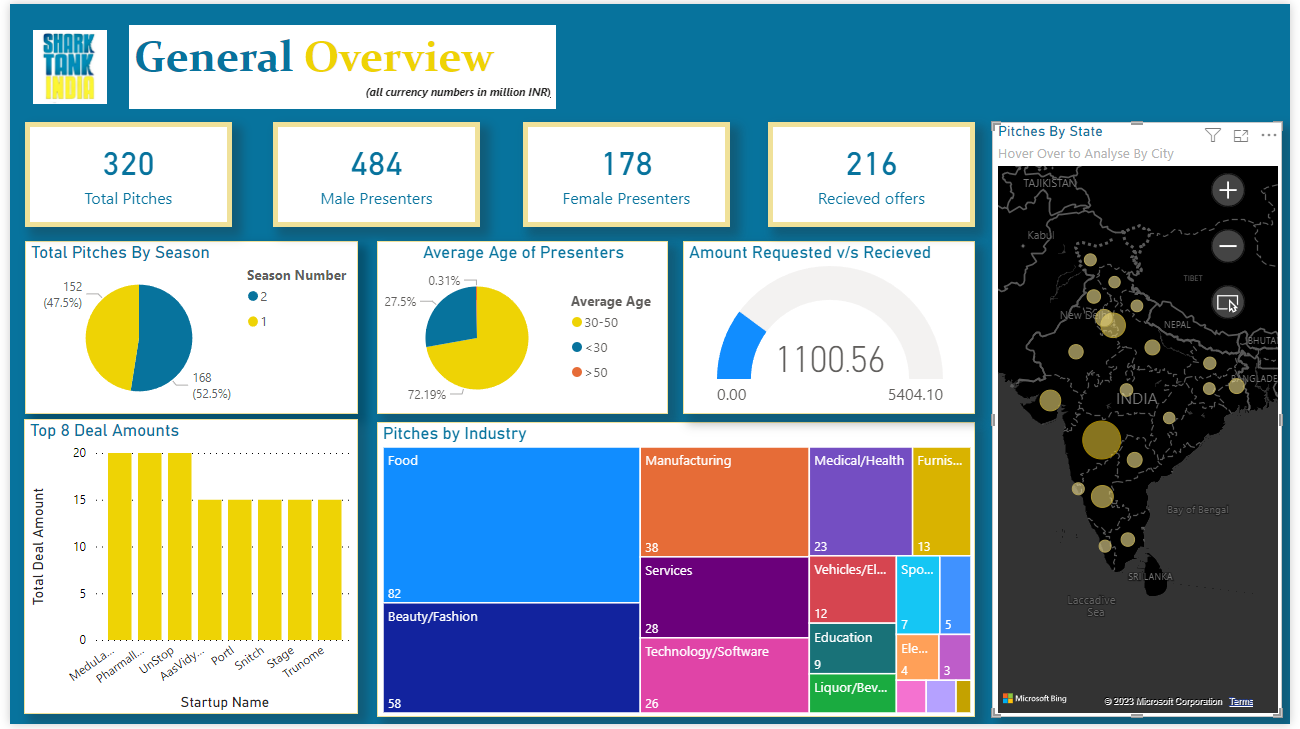

The dashboard page shown, as its layout file describes it:
{"tool":"powerbi","page":{"name":"General Overview","canvas":[1280,720],"ordinal":0},"visuals":[{"type":"map","title":"Pitches By State","fields":{"Category":["Report 1.Pitchers State"],"Size":["CountNonNull(Report 1.Pitch Number)"]},"box":[982.4,117.7,289.8,595.3],"z":0},{"type":"pieChart","title":"Total Pitches By Season","fields":{"Category":["Report 1.Season Number"],"Y":["CountNonNull(Report 1.Pitch Number)"]},"box":[14.6,237.3,333.6,173.1],"z":1000},{"type":"columnChart","title":"Top 8 Deal Amounts","fields":{"Y":["Sum(Report 1.Total Deal Amount)"],"Category":["Report 1.Startup Name"]},"box":[14.2,415.4,333.9,294.9],"z":2000},{"type":"advanceCardE03760C5AB684758B56AA29F9E6C257B","fields":{"mainMeasure":["Sum(Report 1.Male Presenters)"]},"box":[262.6,117.7,207.2,105],"z":3000},{"type":"advanceCardE03760C5AB684758B56AA29F9E6C257B","fields":{"mainMeasure":["Sum(Report 1.Female Presenters)"]},"box":[512.6,117.7,207.2,105],"z":4000},{"type":"pieChart","title":"Average Age of Presenters","fields":{"Category":["Report 1.Pitchers Average Age"],"Y":["CountNonNull(Report 1.Average Age)"]},"box":[366.7,237.3,291.8,173.1],"z":5000},{"type":"textbox","box":[118.7,21.3,426.9,84.1],"z":6000,"group":"g1"},{"type":"treemap","title":"Pitches by Industry ","fields":{"Values":["CountNonNull(Report 1.Industry)"],"Group":["Report 1.Industry"]},"box":[366.7,418.2,598.2,294.7],"z":6000},{"type":"gauge","title":"Amount Requested v/s Recieved","fields":{"Y":["Sum(Report 1.Total Deal Amount)"],"MaxValue":["Sum(Report 1.Original Ask Amount)"]},"box":[673.1,237.3,291.8,173.1],"z":7000},{"type":"group","id":"g1","title":"Group 2","box":[118.7,21.3,426.9,84.1],"z":8000},{"type":"image","box":[0,21.4,118.7,83.6],"z":9000},{"type":"textbox","box":[348.1,73.6,197.5,31.9],"z":9000,"group":"g1"},{"type":"advanceCardE03760C5AB684758B56AA29F9E6C257B","fields":{"mainMeasure":["CountNonNull(Report 1.Pitch Number)"]},"box":[15.1,117.8,207.2,105.4],"z":10000},{"type":"advanceCardE03760C5AB684758B56AA29F9E6C257B","fields":{"mainMeasure":["Report 1.#offer yes"]},"box":[757.7,117.7,207.2,105],"z":11000}]}

Visuals, with their boxes in screenshot pixels (x1, y1, x2, y2):
"Pitches By State" map: 990, 117, 1279, 711
"Total Pitches By Season" pieChart: 25, 237, 357, 409
"Top 8 Deal Amounts" columnChart: 24, 414, 357, 708
advanceCardE03760C5AB684758B56AA29F9E6C257B - Sum(Report 1.Male Presenters): 272, 117, 479, 222
advanceCardE03760C5AB684758B56AA29F9E6C257B - Sum(Report 1.Female Presenters): 521, 117, 728, 222
"Average Age of Presenters" pieChart: 376, 237, 667, 409
textbox: 128, 21, 554, 105
"Pitches by Industry " treemap: 376, 417, 972, 711
"Amount Requested v/s Recieved" gauge: 681, 237, 972, 409
"Group 2" group: 128, 21, 554, 105
image: 10, 21, 128, 105
textbox: 357, 73, 554, 105
advanceCardE03760C5AB684758B56AA29F9E6C257B - CountNonNull(Report 1.Pitch Number): 25, 117, 232, 222
advanceCardE03760C5AB684758B56AA29F9E6C257B - Report 1.#offer yes: 766, 117, 972, 222
